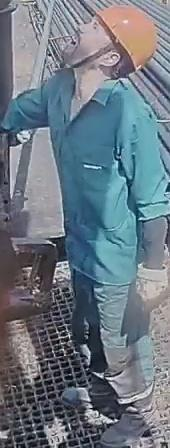gloves: (134, 263, 168, 313)
helmet: (93, 4, 158, 71)
vest: (46, 71, 170, 284)
